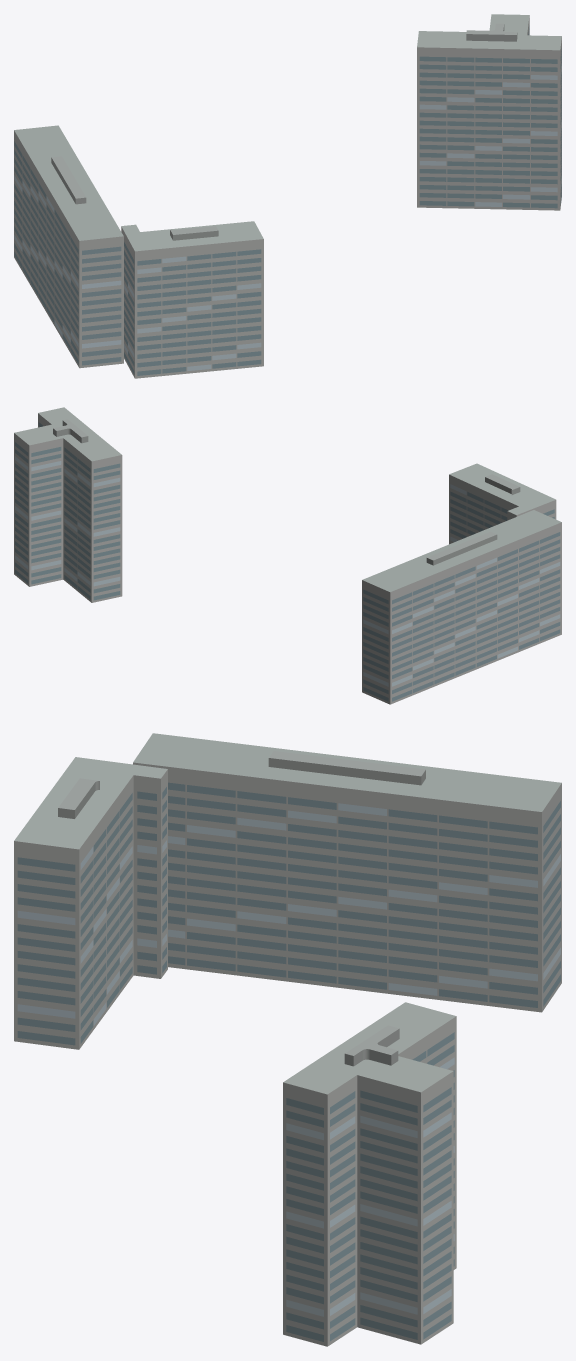
Rendered from apt-a10020336.glb.
3 views of the same model, one above another, from view 1: azimuth 30°, elevation 25°; view 2: azimuth 150°, elevation 25°; view 3: azimuth 270°, elevation 25° (orthographic). The views are drawn at different scales.
Parts seen in each view (by area): view 1: apt-a10020336; view 2: apt-a10020336; view 3: apt-a10020336.
Boxes of the visible parts, x1,y1,x2,y2 form: apt-a10020336: [14, 14, 561, 378]; apt-a10020336: [14, 407, 561, 704]; apt-a10020336: [14, 733, 561, 1346].
Size of the model in its own units: 202 by 60 by 113.
